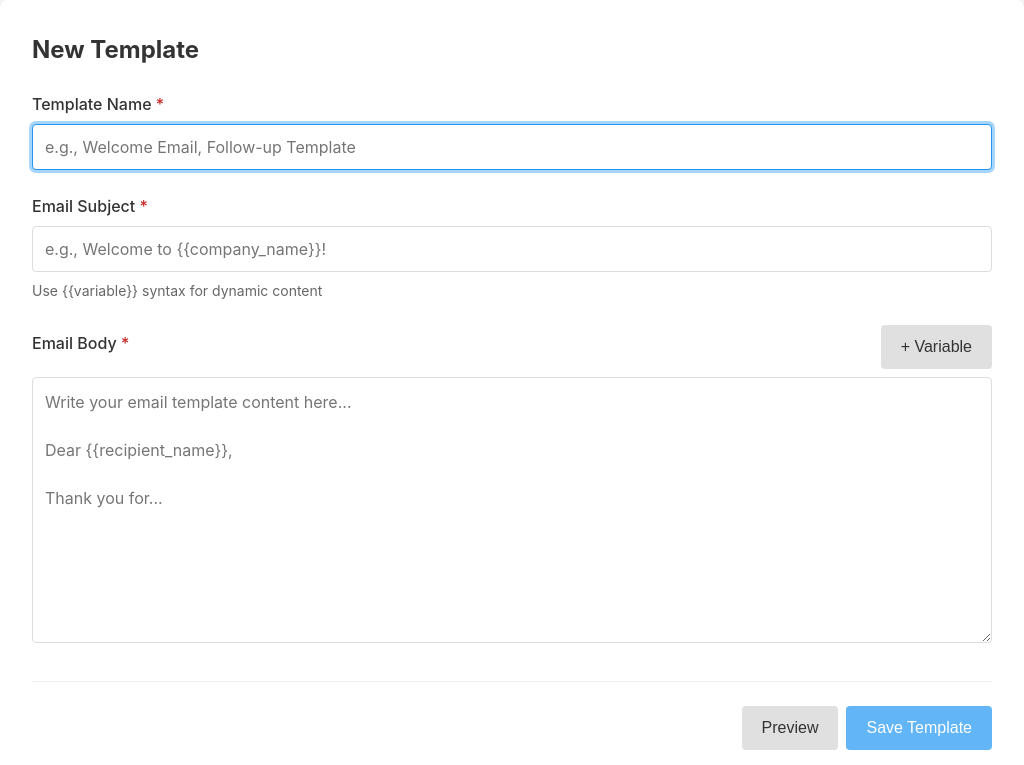
Test: TemplateEditor › Accessibility › should mark invalid fields with aria-invalid when validation fails
Note: Type only in subject field (name is still empty, so validation should fail for name)
In the field labelled "Email Subject *": point(512, 249) [32, 226, 992, 272], type "Test Subject"
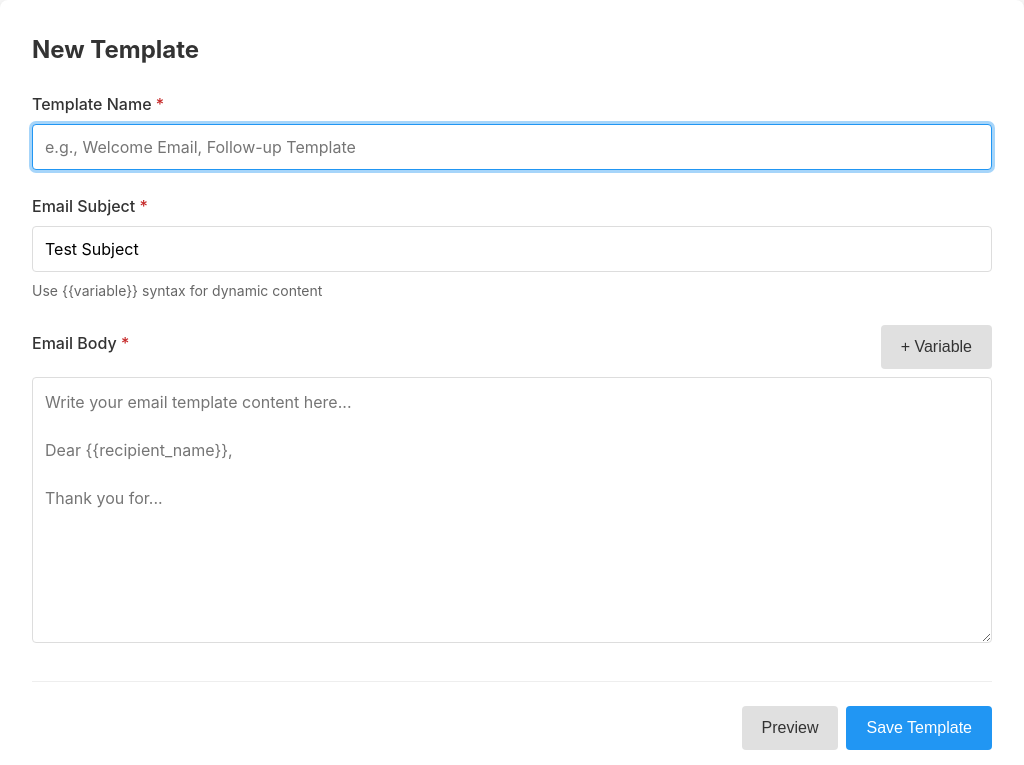
Note: Try to save - name field is empty so validation should fail
Click the button "Save Template": point(919, 728) [846, 706, 992, 750]
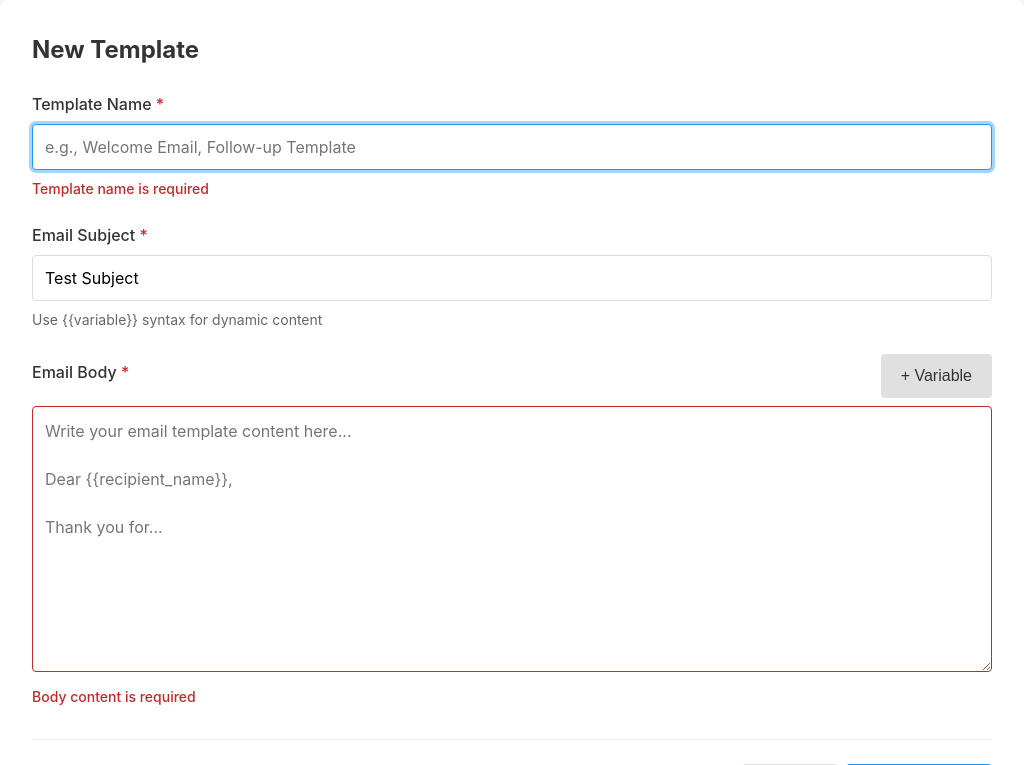
Now the text "Template name is required" is shown, box [32, 180, 209, 197]
